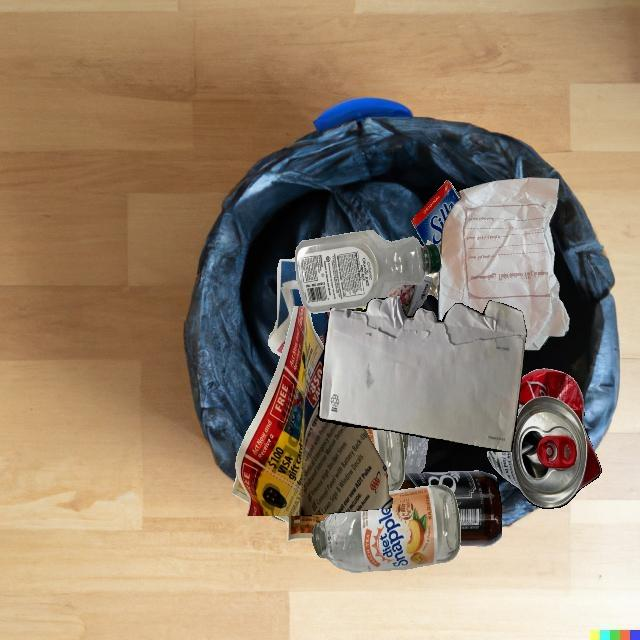cardboard: (411, 180, 460, 254)
glass: (312, 485, 461, 572), (397, 471, 502, 547), (363, 428, 405, 492)
metal: (487, 368, 601, 509)
paper: (235, 306, 393, 516), (318, 296, 526, 452), (438, 178, 570, 350), (326, 330, 402, 435), (296, 273, 400, 330), (268, 269, 304, 356), (274, 513, 330, 541), (392, 275, 433, 298), (310, 314, 326, 347), (400, 298, 426, 317), (233, 475, 249, 504), (425, 271, 440, 300), (277, 259, 296, 273), (401, 433, 408, 460), (345, 306, 367, 311)
plastic: (294, 230, 441, 313), (404, 434, 428, 473)
